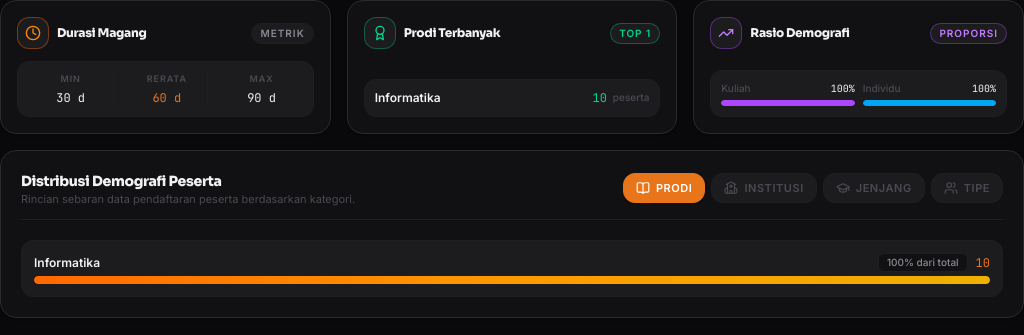
Scenario: StatistikPeserta Component › renders statistics correctly after loading
Expected: the text "Durasi Magang" is shown, x1=57 y1=25 x2=146 y2=41
Expected: the text "Informatika" below "Prodi Terbanyak" is shown, x1=375 y1=90 x2=441 y2=104
Step 1. Click the button "Institusi" → (764, 188), box x1=711 y1=172 x2=817 y2=203
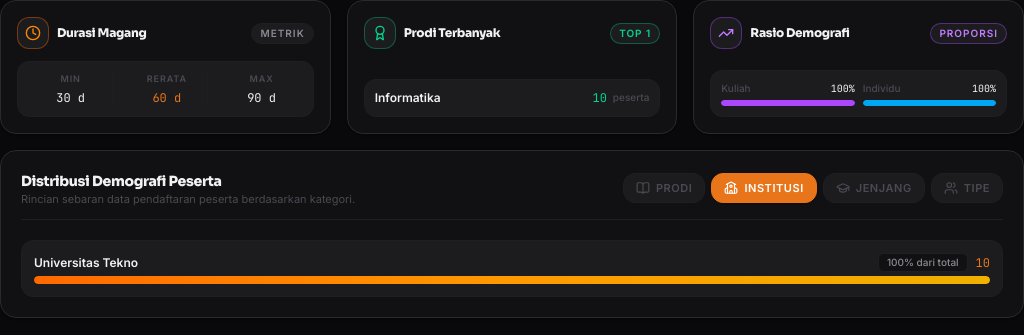
Now the text "Universitas Tekno" is shown, box x1=34 y1=255 x2=154 y2=271
